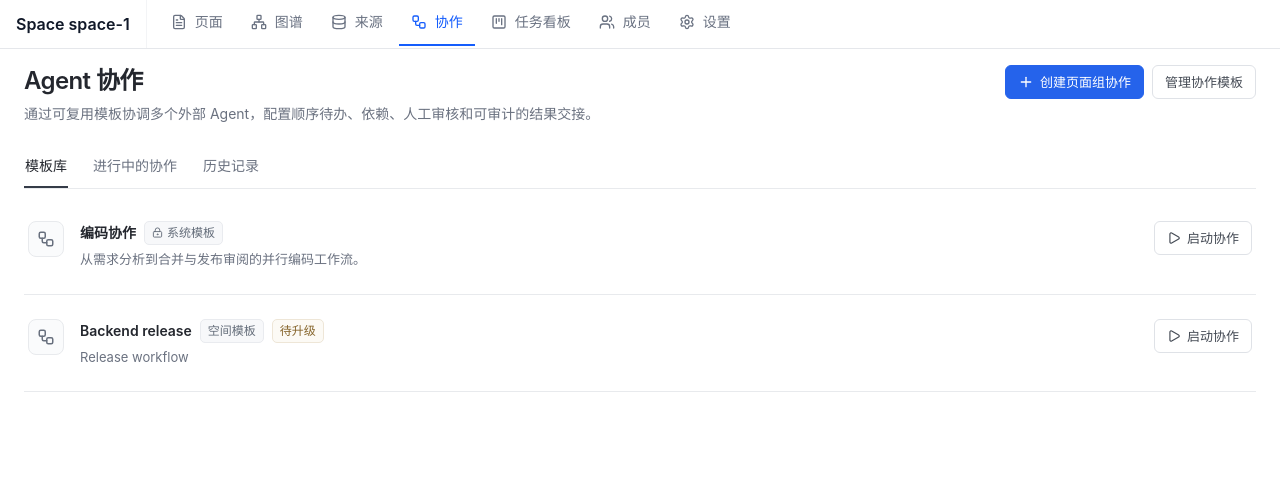
Scenario: CollaborationWorkspace › opens management from the single header entry in zh-CN
The image size is (1280, 493).
Check: the heading "Backend release" is shown, box [80,319,192,343]
Click the link "管理协作模板" at (1204, 82), box [1152,65,1256,99]
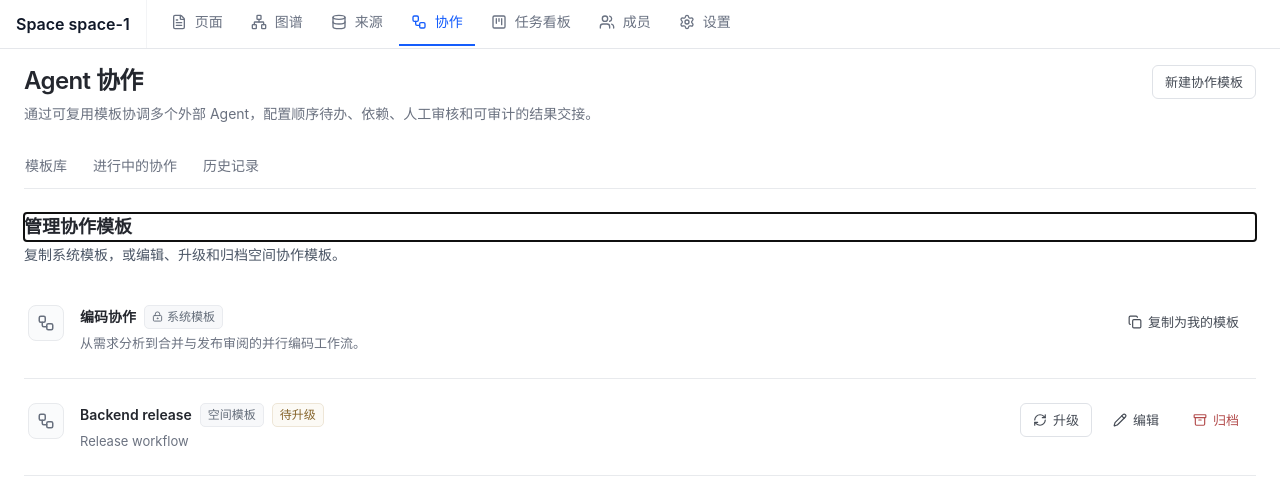
Check: the heading "管理协作模板" is shown, box [24,216,132,237]
Check: the link "启动协作" is gone
Check: the button "创建页面组协作" is gone
